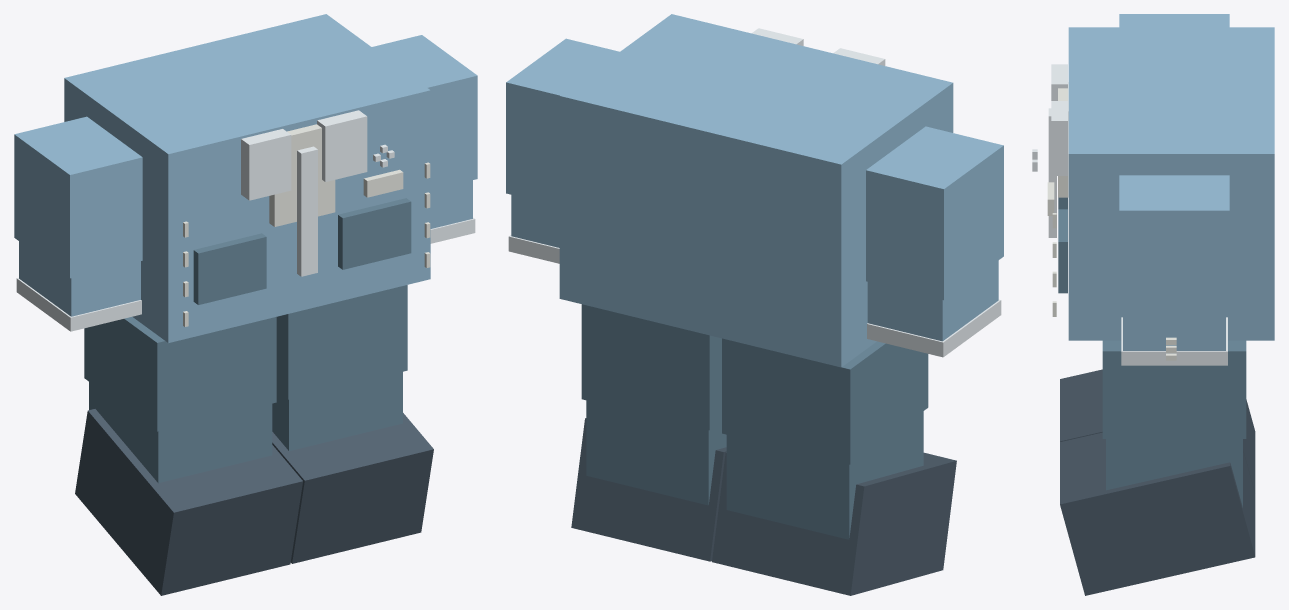
File: business-sky.glb
3 renders of one model, left to right at view 1: azimuth 30°, elevation 25°; view 2: azimuth 150°, elevation 25°; view 3: azimuth 270°, elevation 25°, orthographic. The views are drawn at different scales.
Parts seen in each view (by area): view 1: jacket, shoe-Right, upper-sleeve-Right, trouser-Right, shoe-Left, trouser-Left, lower-trouser-Right, upper-sleeve-Left, lower-trouser-Left, lower-sleeve-Right, pocket--1, pocket-1 (+8 smaller); view 2: jacket, upper-sleeve-Right, trouser-Right, shoe-Right, trouser-Left, lower-trouser-Right, lower-trouser-Left, upper-sleeve-Left, shoe-Left, lower-sleeve-Right, cuff-Right, lower-sleeve-Left (+1 smaller); view 3: jacket, shoe-Left, upper-sleeve-Left, trouser-Left, lower-trouser-Left, lower-sleeve-Left, shoe-Right, cuff-Left, upper-sleeve-Right, lapel-1, pocket-1, tie (+2 smaller).
Boxes of the visible parts, left/top/right/bottom form: jacket: left=64, top=14, right=430, bottom=342; shoe-Right: left=75, top=409, right=302, bottom=595; upper-sleeve-Right: left=14, top=116, right=142, bottom=278; trouser-Right: left=84, top=317, right=276, bottom=431; shoe-Left: left=272, top=413, right=433, bottom=563; trouser-Left: left=276, top=285, right=407, bottom=399; lower-trouser-Right: left=89, top=382, right=272, bottom=482; upper-sleeve-Left: left=372, top=35, right=477, bottom=190; lower-trouser-Left: left=272, top=372, right=402, bottom=451; lower-sleeve-Right: left=19, top=241, right=140, bottom=316; pocket--1: left=193, top=233, right=266, bottom=304; pocket-1: left=338, top=198, right=411, bottom=269; jacket: left=559, top=14, right=953, bottom=367; upper-sleeve-Right: left=866, top=126, right=1003, bottom=300; trouser-Right: left=722, top=338, right=928, bottom=464; shoe-Right: left=712, top=452, right=956, bottom=595; trouser-Left: left=581, top=304, right=721, bottom=430; lower-trouser-Right: left=726, top=411, right=923, bottom=539; lower-trouser-Left: left=586, top=400, right=726, bottom=505; upper-sleeve-Left: left=506, top=38, right=619, bottom=206; shoe-Left: left=571, top=418, right=726, bottom=561; lower-sleeve-Right: left=867, top=260, right=998, bottom=341; cuff-Right: left=867, top=299, right=1001, bottom=357; lower-sleeve-Left: left=511, top=195, right=559, bottom=247; jacket: left=1068, top=27, right=1274, bottom=340; shoe-Left: left=1060, top=432, right=1255, bottom=595; upper-sleeve-Left: left=1119, top=175, right=1229, bottom=312; trouser-Left: left=1102, top=340, right=1246, bottom=438; lower-trouser-Left: left=1106, top=439, right=1242, bottom=507; lower-sleeve-Left: left=1123, top=312, right=1225, bottom=350; shoe-Right: left=1060, top=369, right=1255, bottom=493; cuff-Left: left=1121, top=317, right=1227, bottom=365; upper-sleeve-Right: left=1119, top=14, right=1229, bottom=27; lapel-1: left=1051, top=101, right=1067, bottom=175; pocket-1: left=1058, top=209, right=1067, bottom=293; tie: left=1048, top=108, right=1056, bottom=237.
Bounding box in the file's own units: 1.08 × 1.13 × 0.559.
